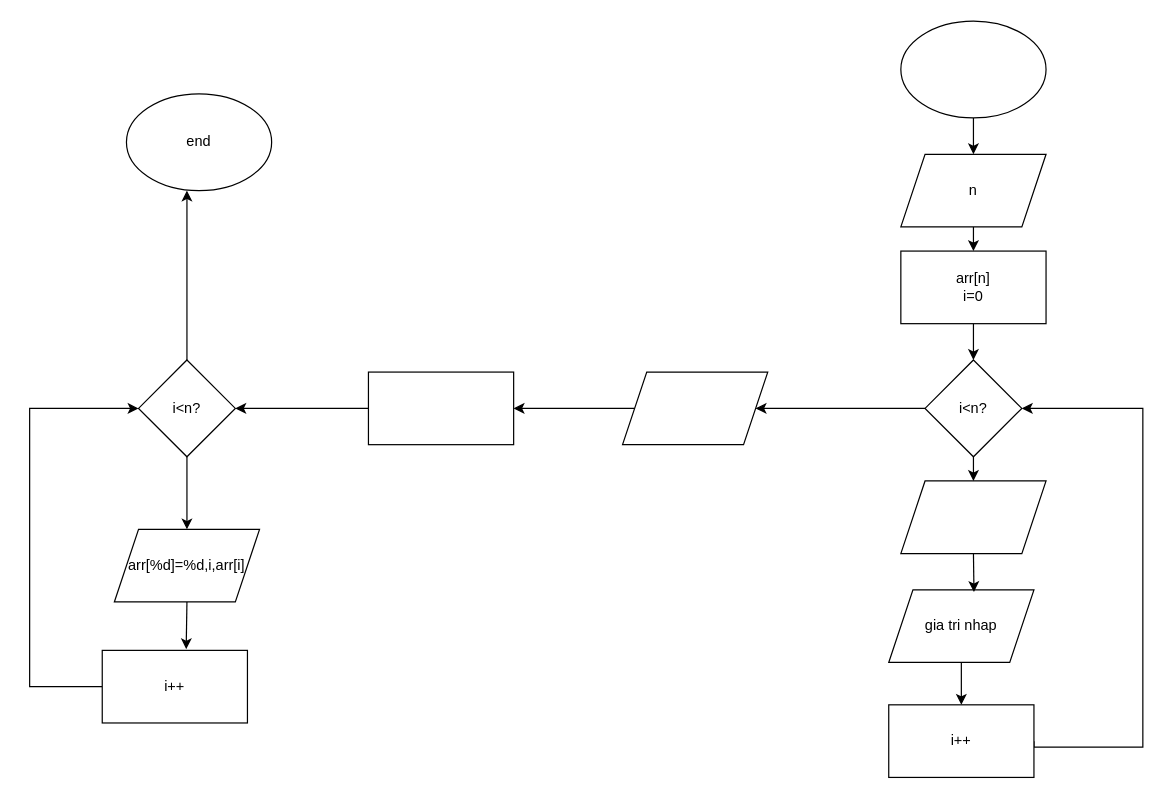
Image size: 1174x799. Some labels were removed from this diagram. Each missing label, with the box of its shape:
arr[a]=: (900, 480, 1046, 554)
arr[indexUp]=valueUp: (367, 371, 514, 445)
indexUp,valueUp: (621, 371, 768, 445)
start: (900, 20, 1046, 118)
